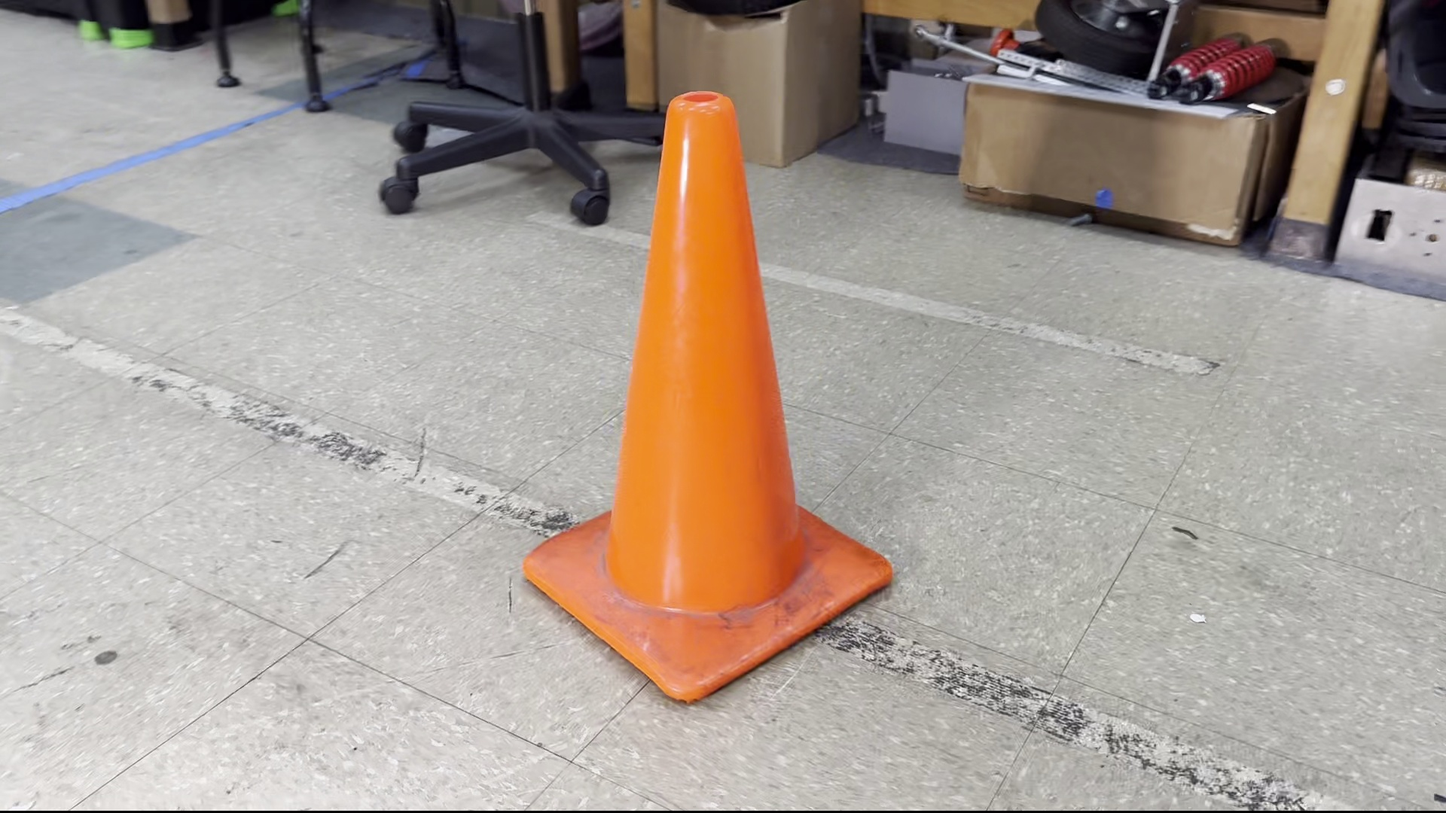traffic_cone: (521, 89, 894, 705)
